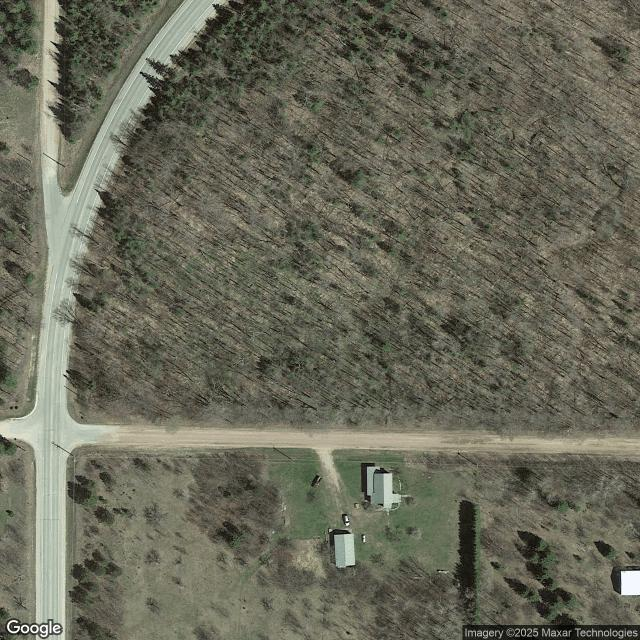Propane: (363, 534, 366, 544)
